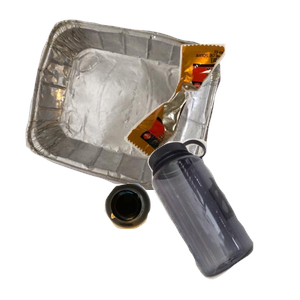glass: (102, 181, 246, 300)
metal: (23, 17, 236, 197)
plastic: (145, 136, 300, 300)
trash: (122, 41, 300, 190)
